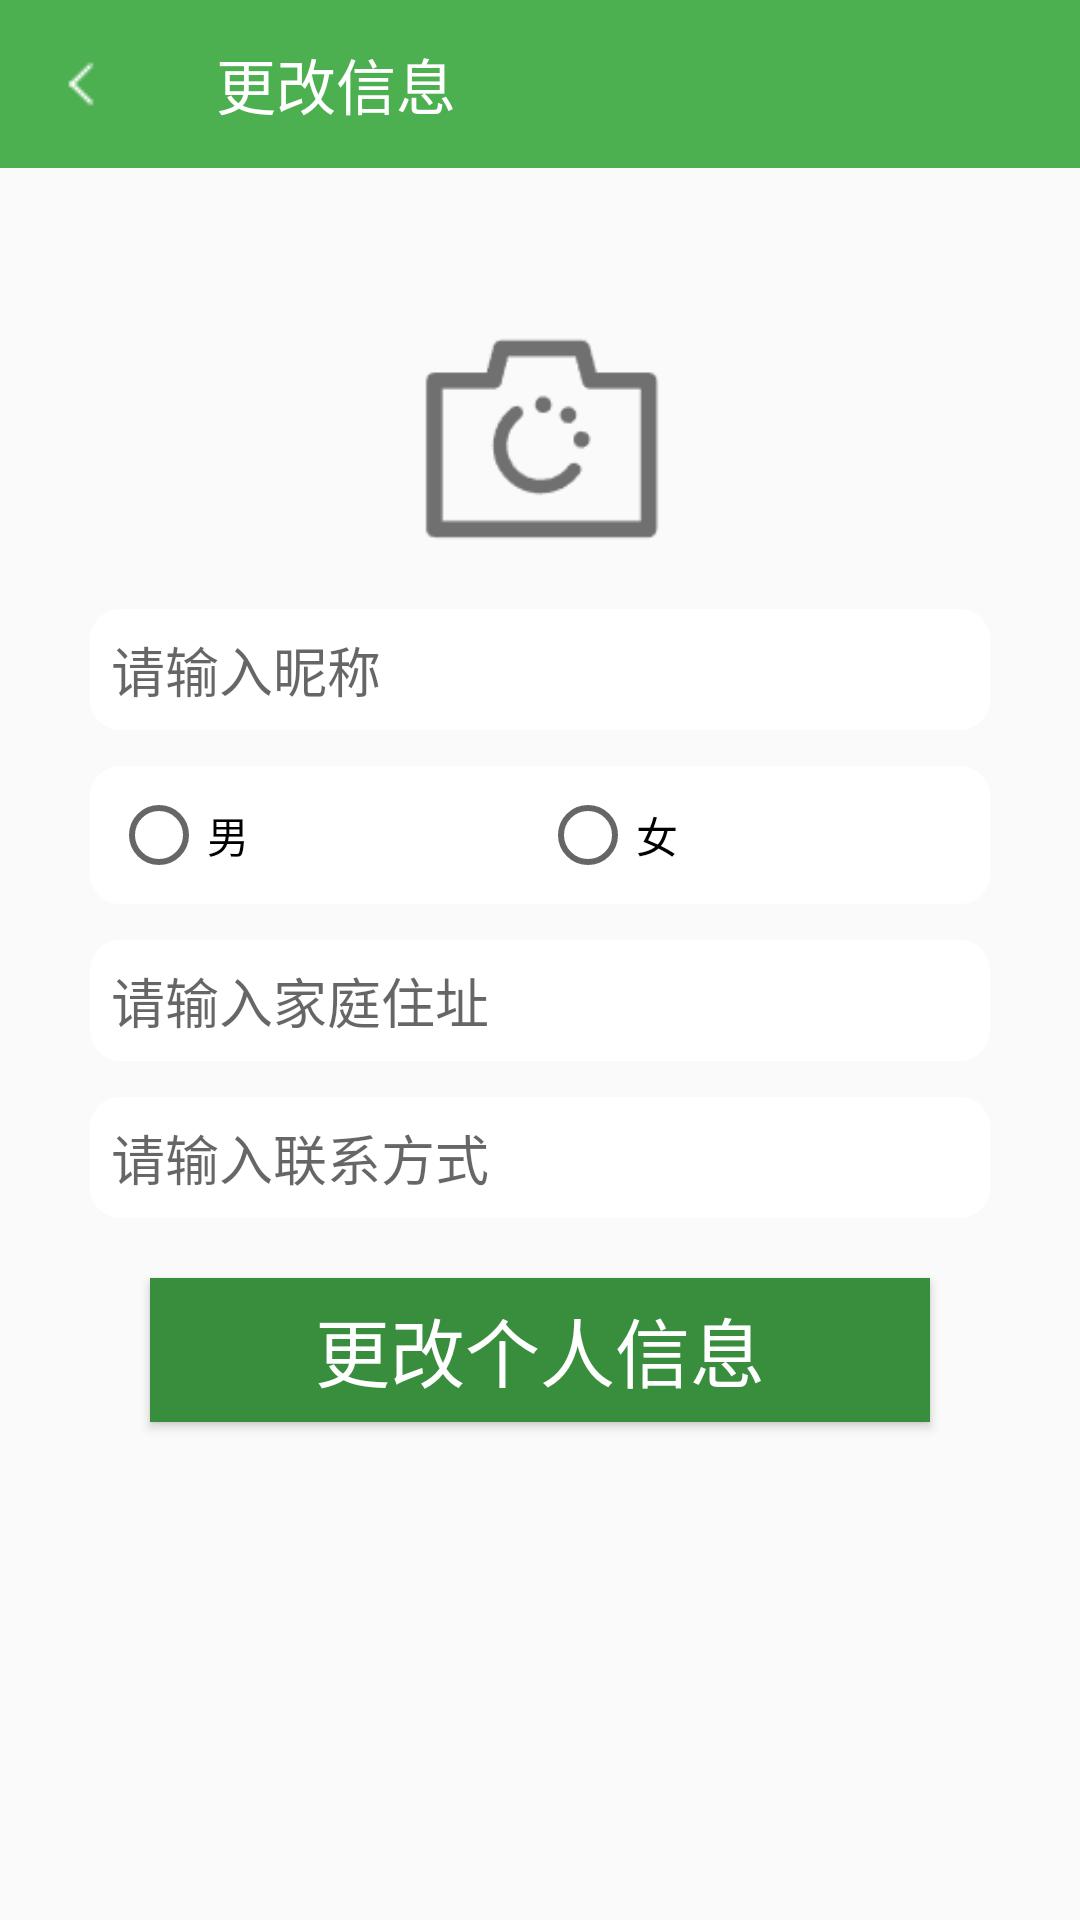

Icon bounding boxes for this 1080x1920 phone screenshot, format (x1, y1, x2, y2):
upimg: (425, 339, 658, 538)
